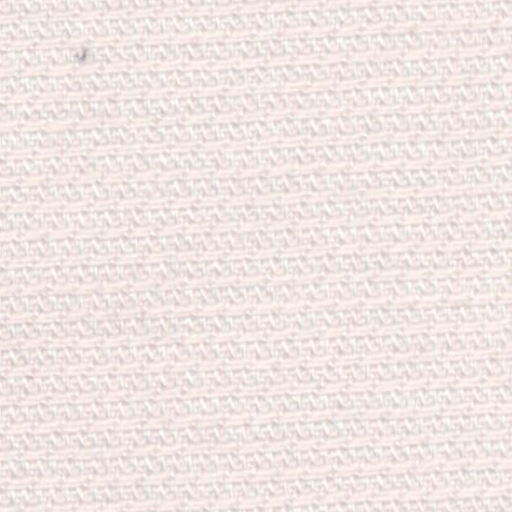WuZi: (56, 34, 100, 76)
